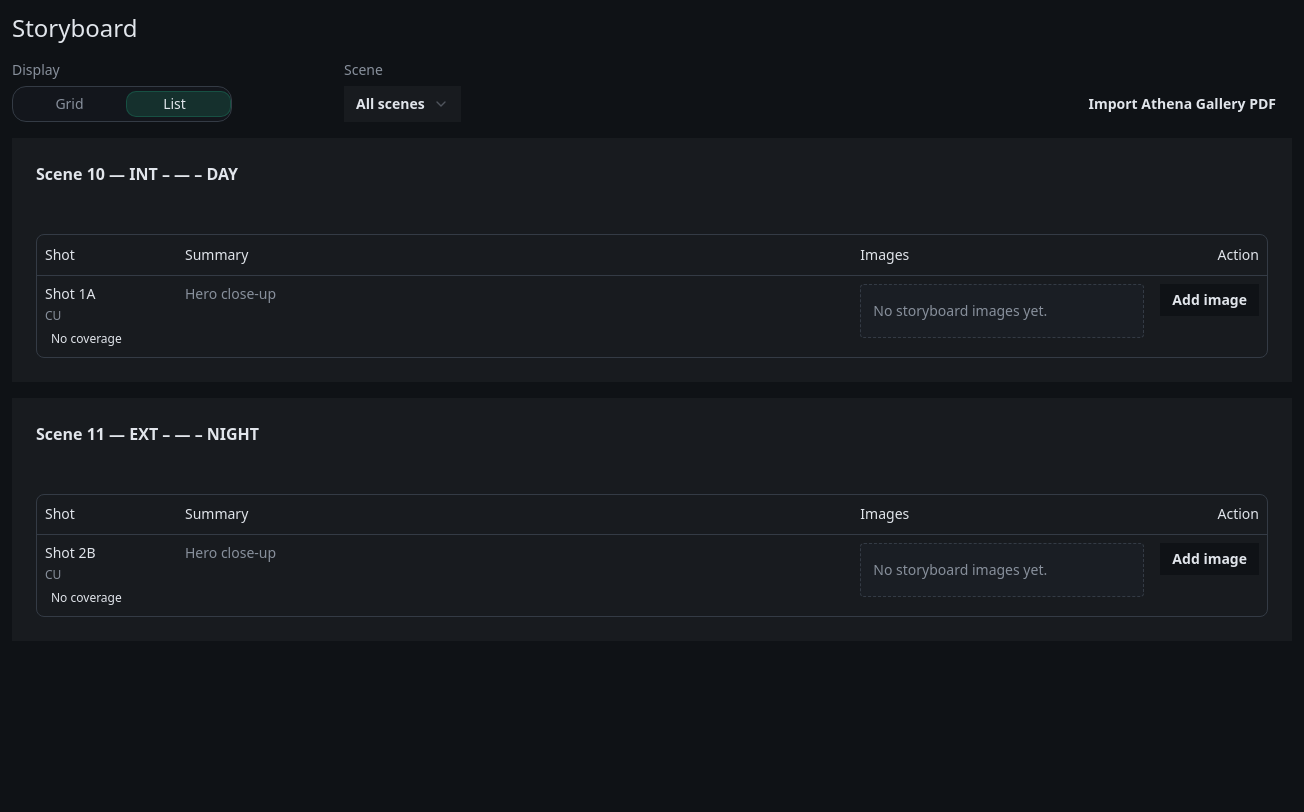
Test case: StoryboardPage › filters by scene and restores all scenes
This screenshot has width=1304, height=812.
Check: the text "Scene 10 — INT – — – DAY" is shown, box [36,163,238,185]
Check: the text "Scene 11 — EXT – — – NIGHT" is shown, box [36,422,259,444]
Click the dropdown at (402, 104), box [344,86,461,122]
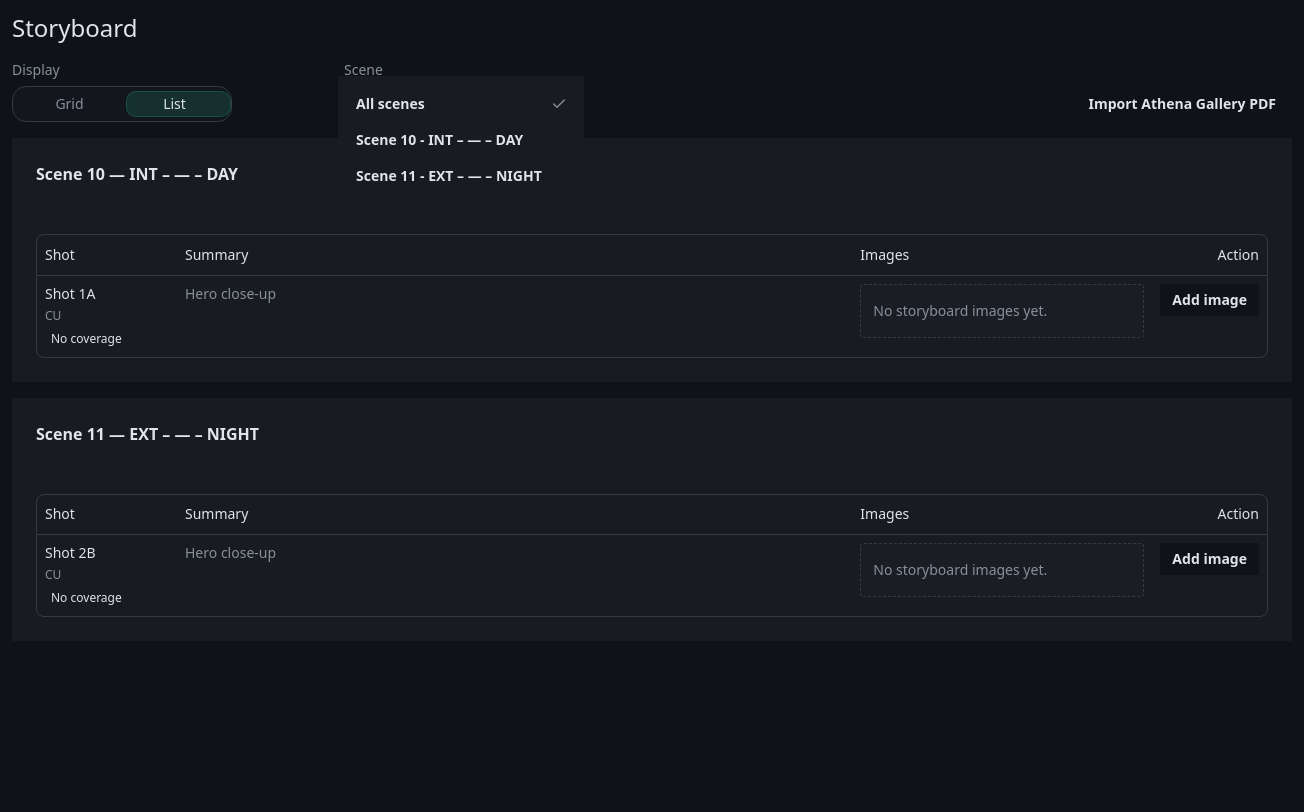
Click the option "Scene 11 - EXT – — – NIGHT" at (449, 176), box [356,166,542,185]
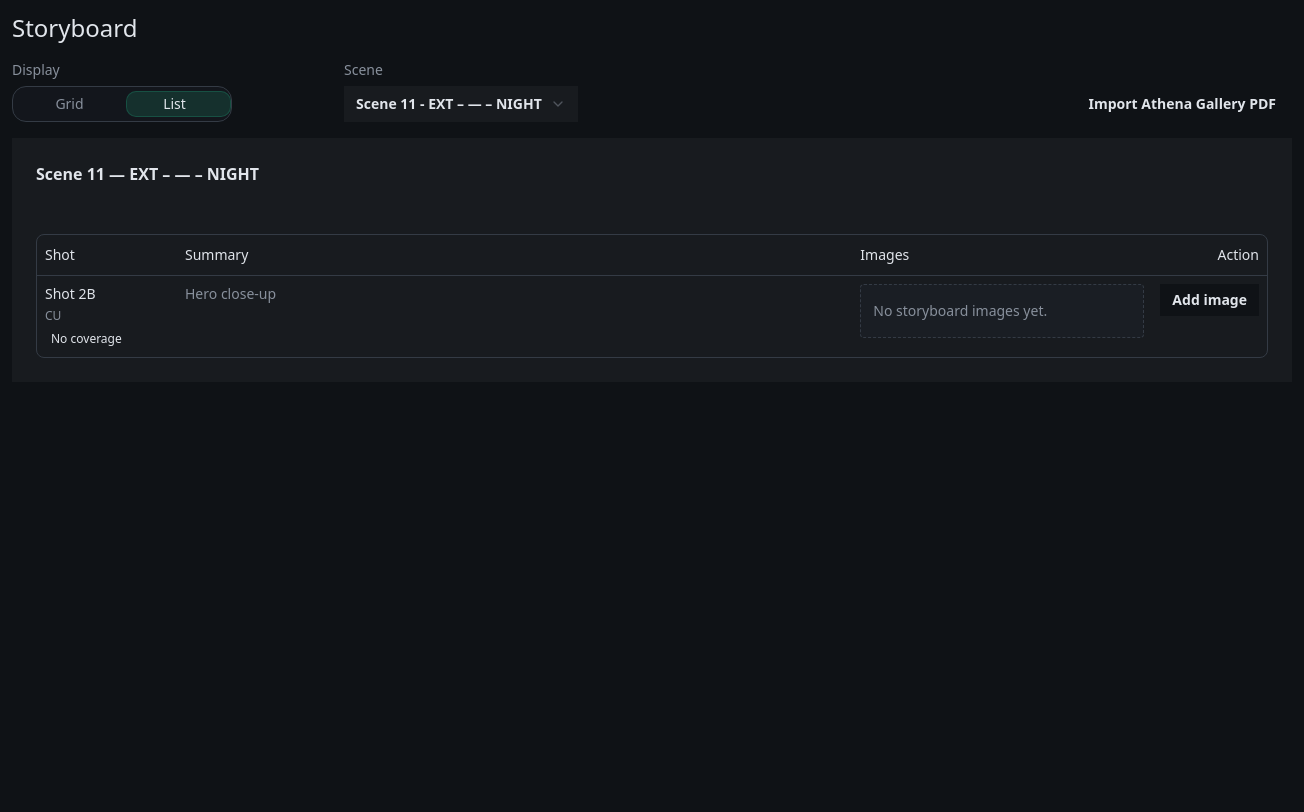
Check: the text "Shot 2B" is shown, box [45,284,96,302]
Check: the text "Scene 10" is gone
Click the dropdown at (461, 104), box [344,86,578,122]
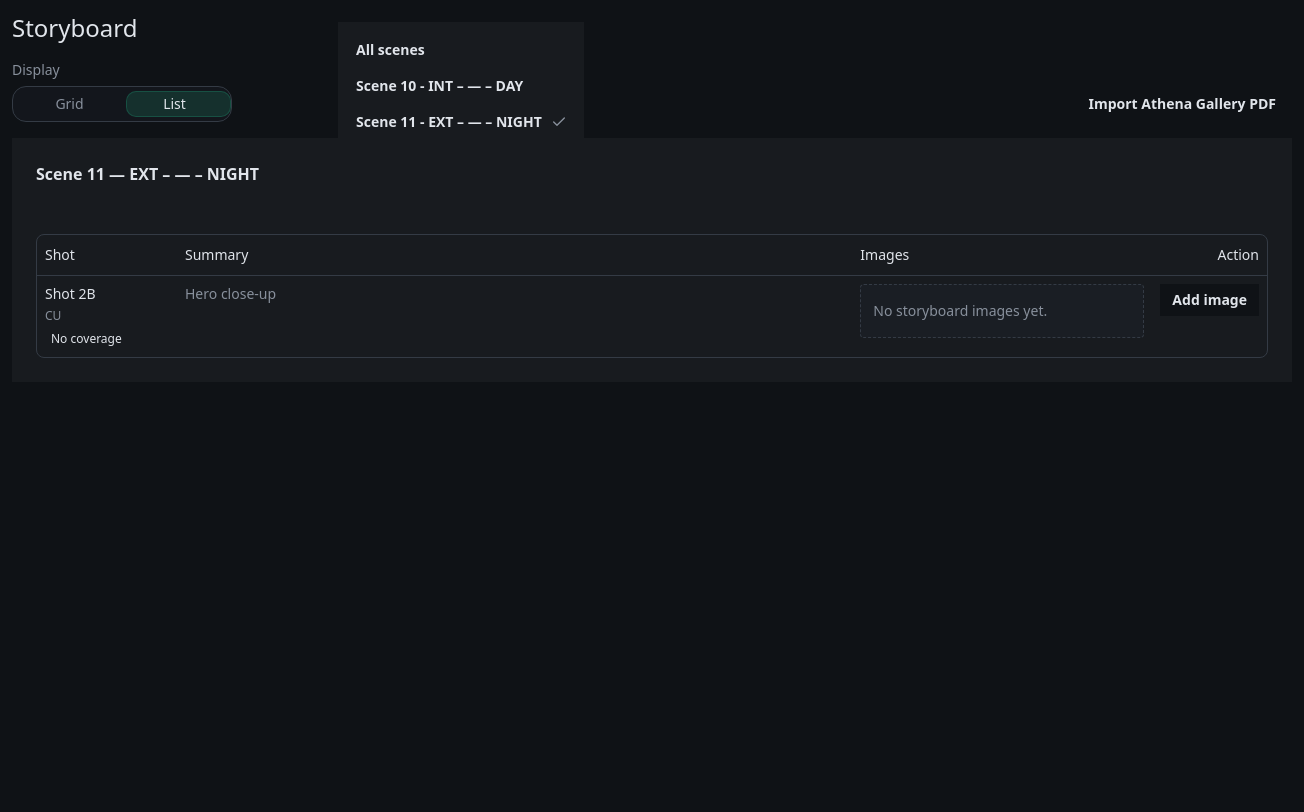
Click the option "All scenes" at (390, 50), box [356,40,425,59]
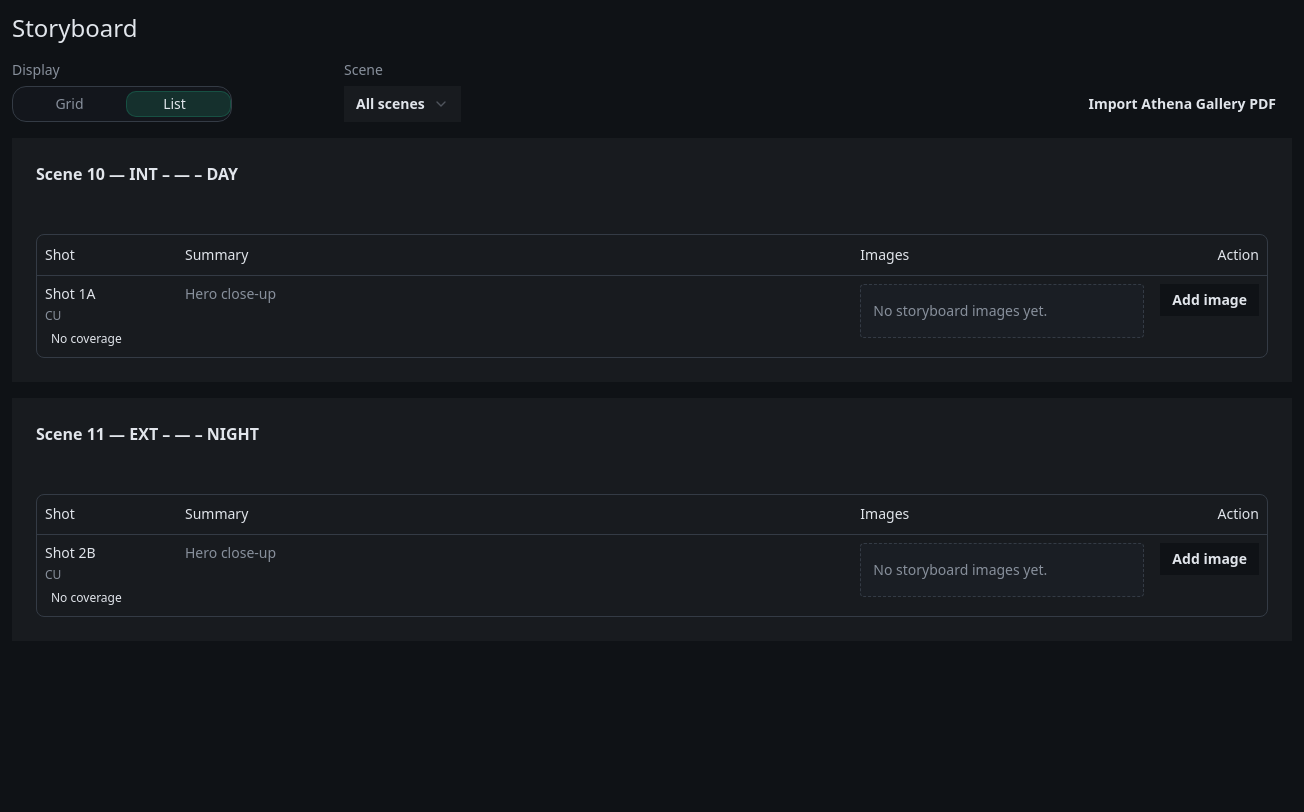
Check: the text "Scene 11 — EXT – — – NIGHT" is shown, box [36,422,259,444]
Check: the text "Scene 10 — INT – — – DAY" is shown, box [36,163,238,185]
